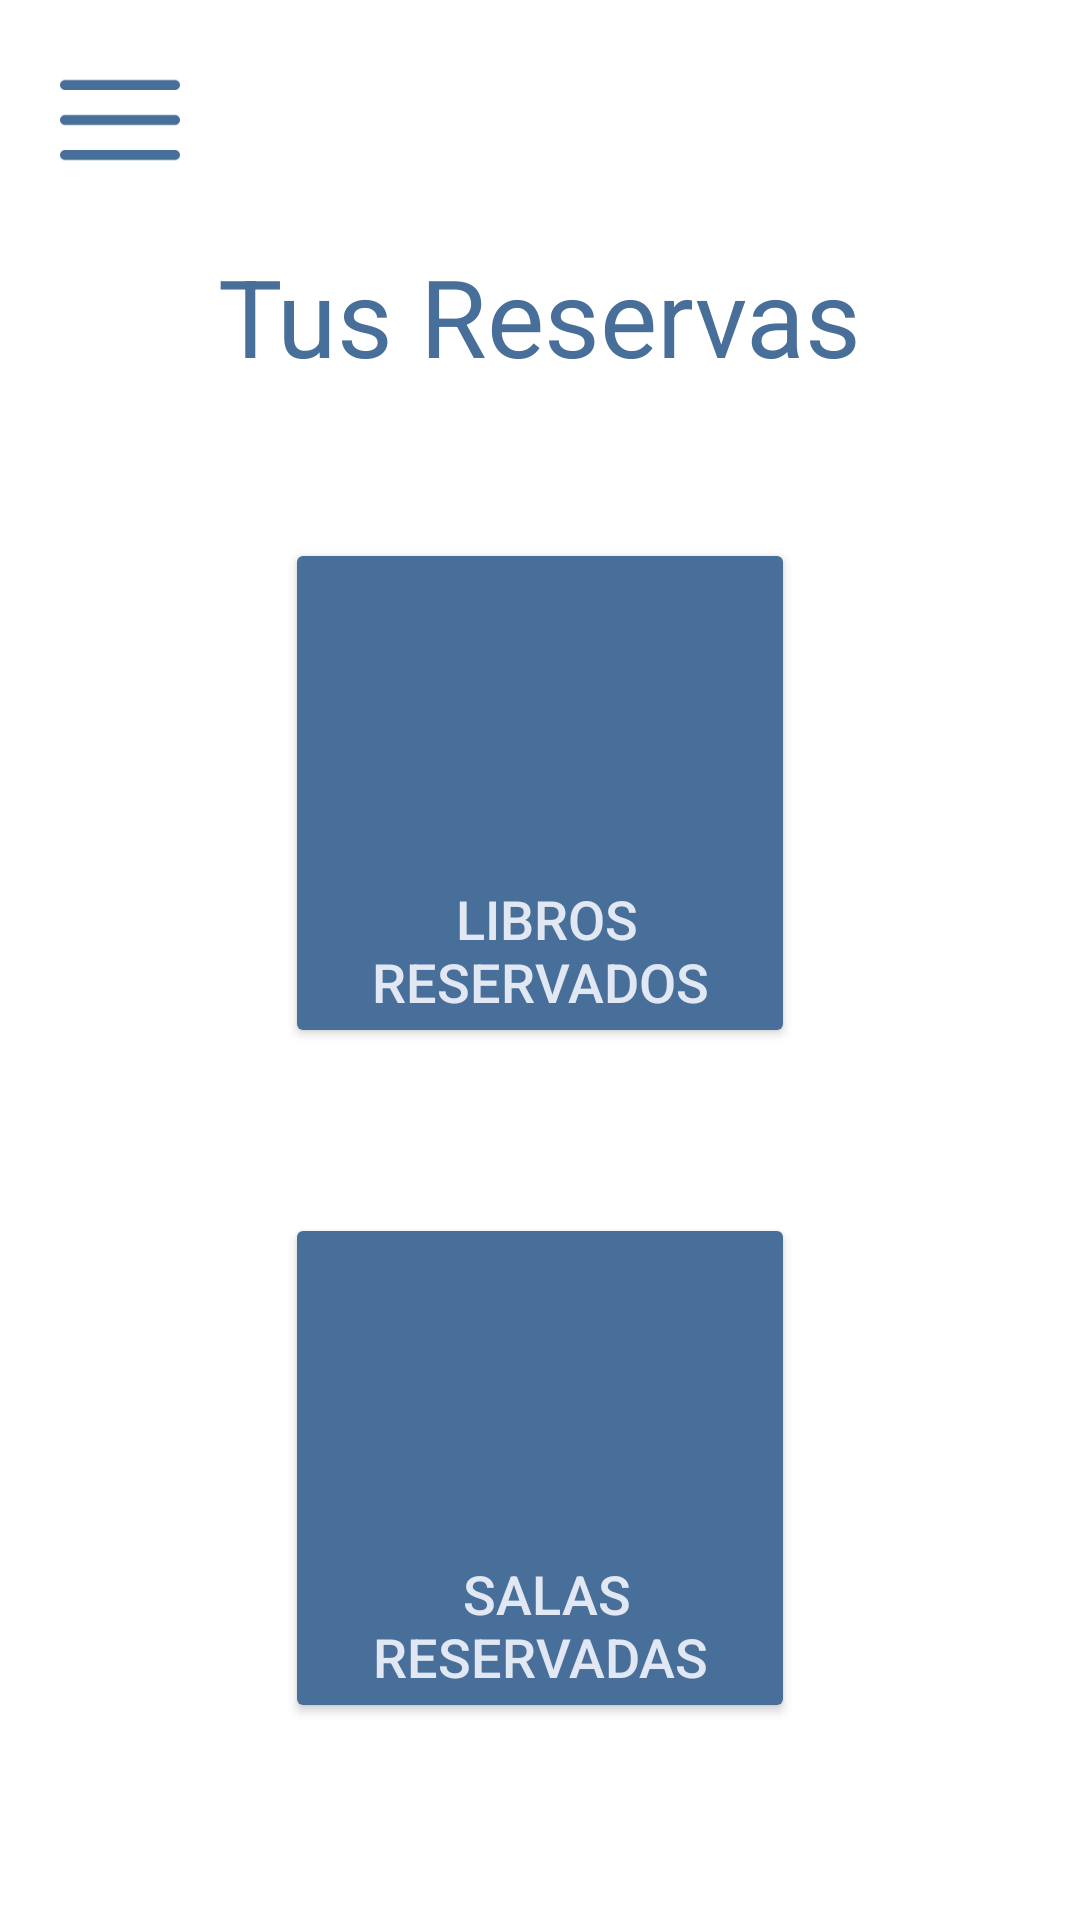

Point at icon controls on the screen. Image size 1080*1920, points as (x,y).
menuicon: (120,120)
